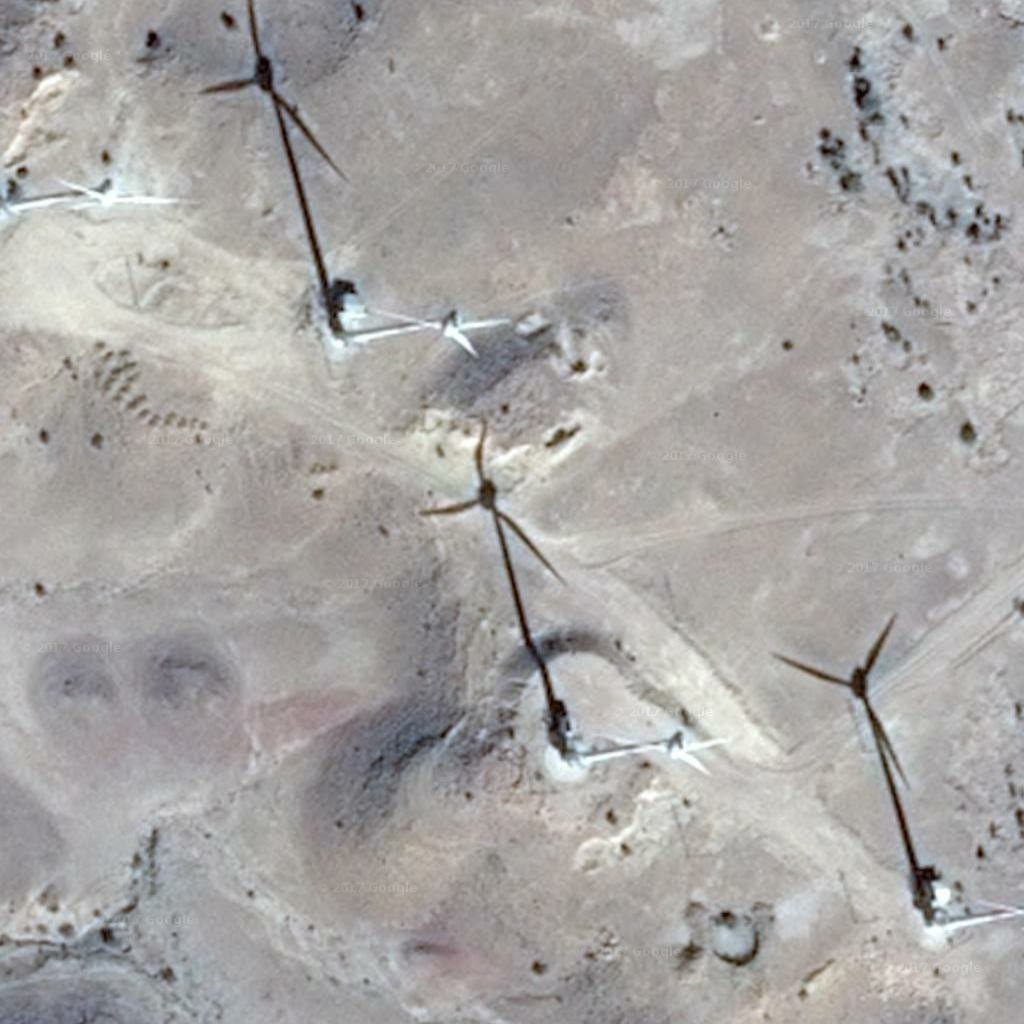Windmill: (194, 3, 357, 325)
